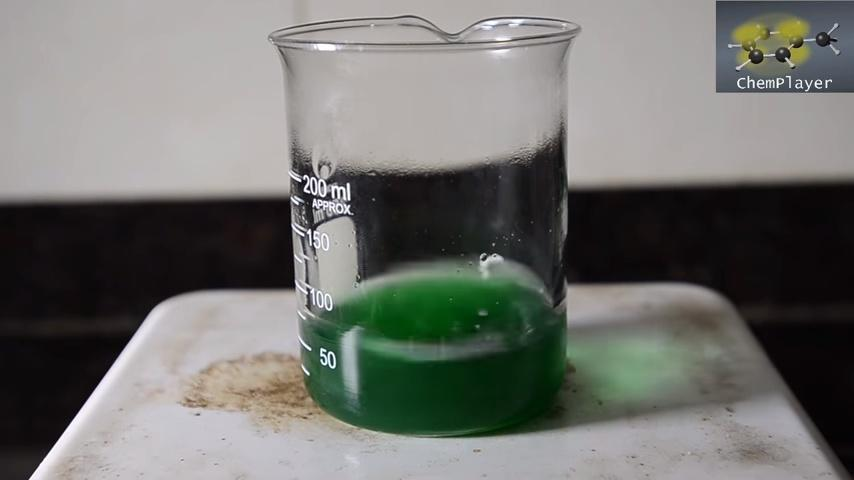Beaker: (256, 22, 585, 437)
